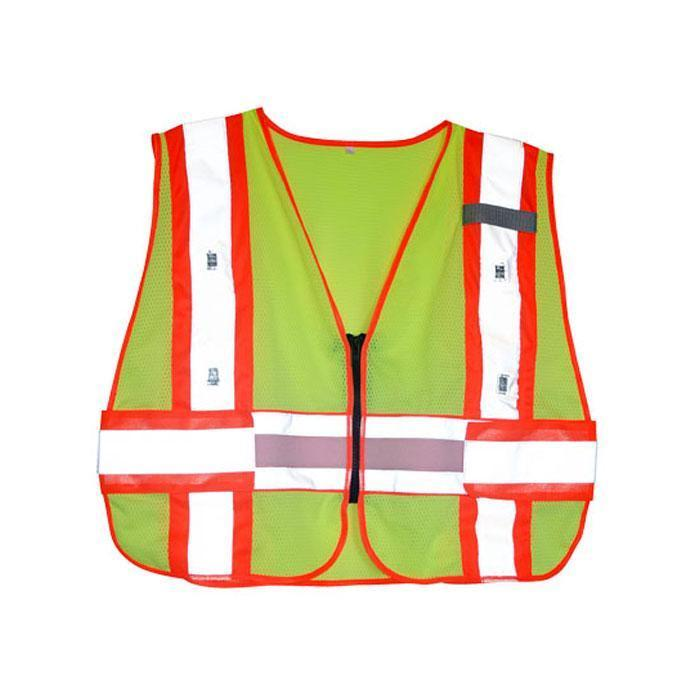vest: (82, 105, 598, 589)
